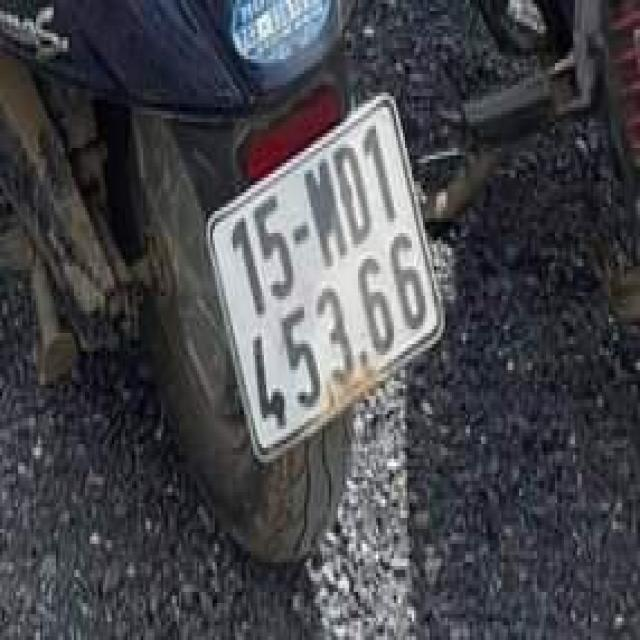6: (390, 224, 426, 335)
M: (303, 157, 348, 268)
